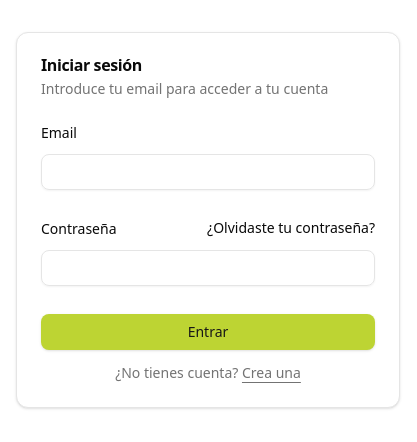
Test: LoginPage › muestra el mensaje de error si login falla
The width and height of the screenshot is (417, 442).
Type "user@example.com" into the field labelled "Email" at (208, 172), box [41,154,375,190]
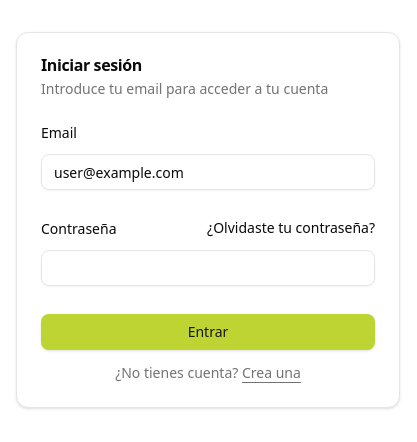
Type "secret123" into the password field labelled "Contraseña" at (208, 268), box [41,250,375,286]
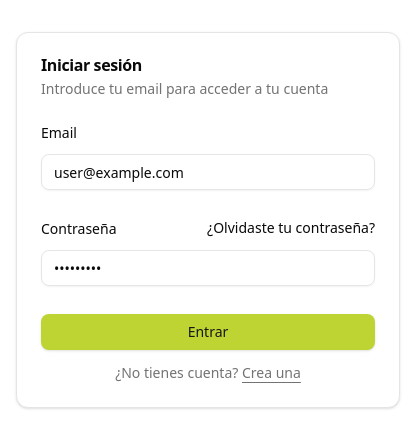
Click the button "Entrar" at (208, 332), box [41,314,375,350]
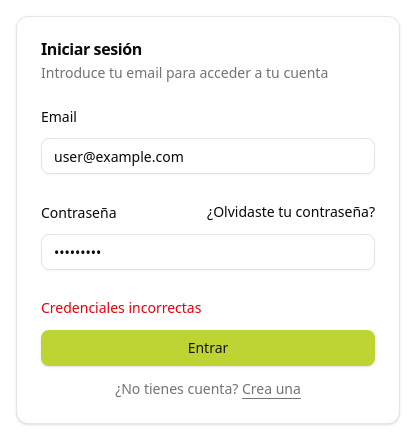
Expected: the text "Credenciales incorrectas" is shown, [41,298,201,317]
